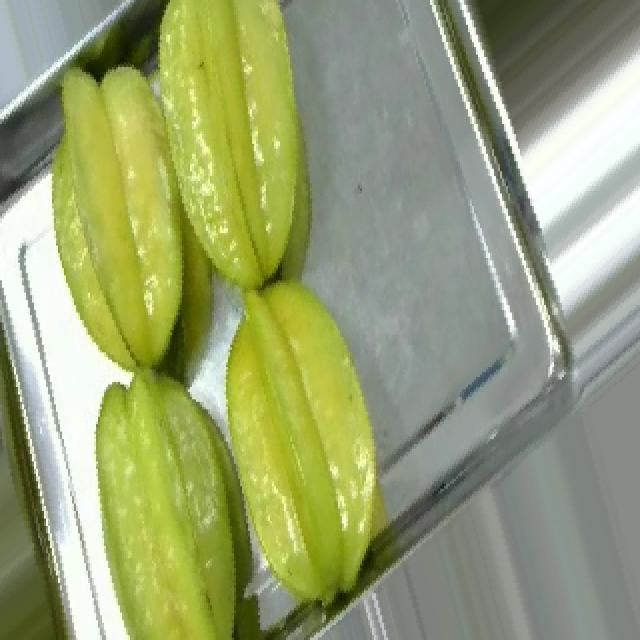fruit: (6, 0, 382, 394), (176, 253, 444, 630), (56, 335, 300, 640), (414, 0, 640, 156)
